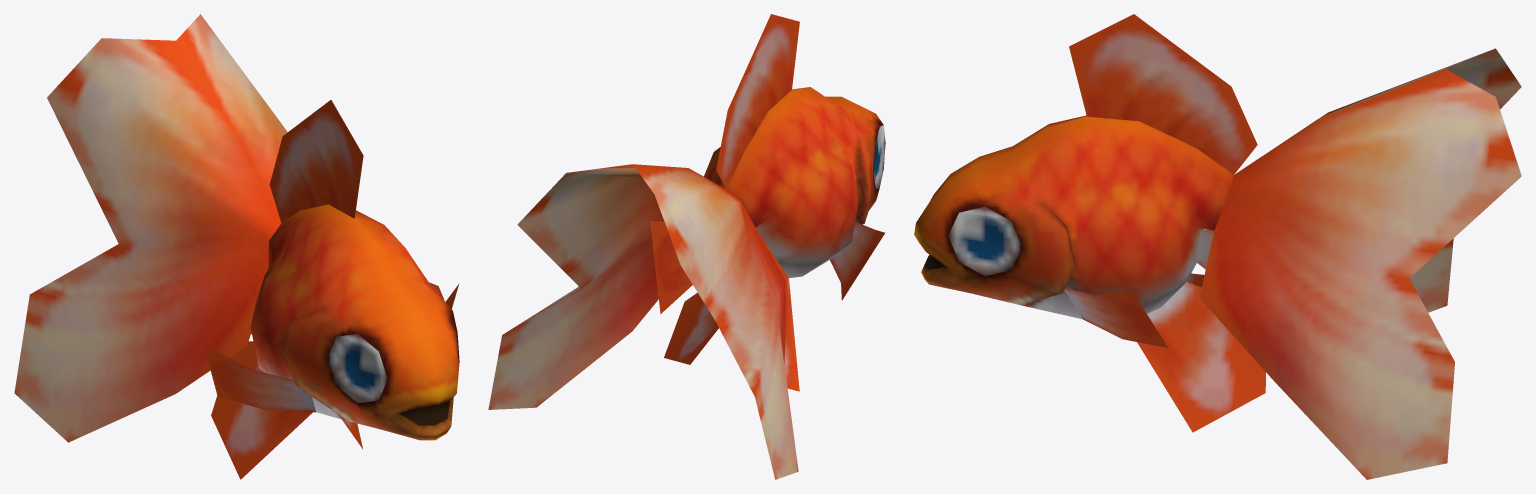
Rendered from Gold.gltf.
3 views of the same model, side by side, from view 1: azimuth 30°, elevation 25°; view 2: azimuth 150°, elevation 25°; view 3: azimuth 270°, elevation 25° (orthographic). The views are drawn at different scales.
Visible parts, largest first — view 1: FishKingyo__mKingyo; view 2: FishKingyo__mKingyo; view 3: FishKingyo__mKingyo.
Part boxes in pixels (x1=…): FishKingyo__mKingyo: x1=14, y1=14, x2=459, y2=479; FishKingyo__mKingyo: x1=488, y1=14, x2=885, y2=479; FishKingyo__mKingyo: x1=914, y1=14, x2=1521, y2=479.
Bounding box in the file's own units: 1.9 × 2.21 × 3.09.
1 material, 1 textured.
